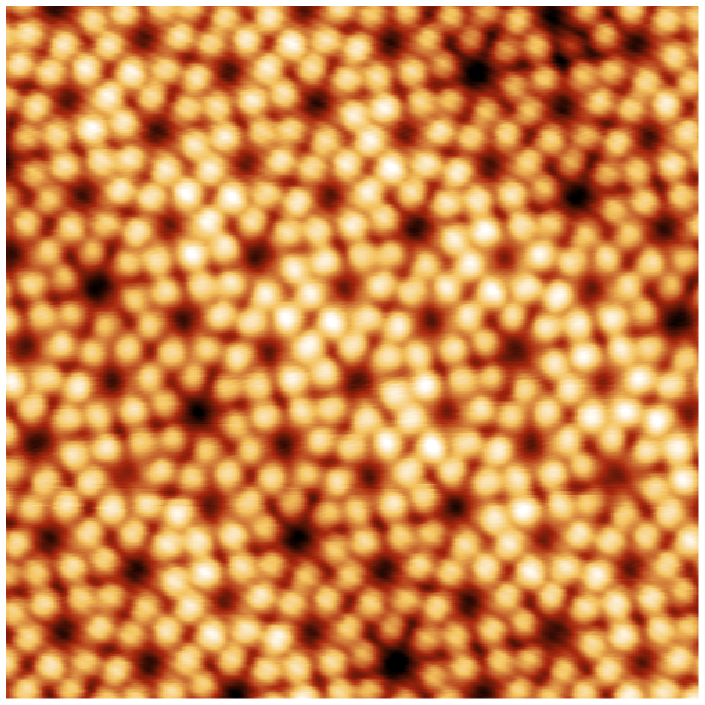L: (108, 82, 211, 186), (410, 457, 510, 562), (269, 53, 370, 155), (92, 519, 191, 623), (572, 425, 670, 529), (253, 486, 349, 592), (310, 331, 408, 434), (473, 302, 569, 404), (372, 177, 466, 281), (212, 207, 309, 306), (151, 364, 246, 465), (511, 582, 606, 683), (51, 239, 144, 340), (430, 27, 527, 121), (534, 149, 627, 247), (593, 6, 690, 94), (4, 393, 88, 494), (350, 613, 444, 700)
R: (398, 364, 496, 464), (176, 553, 276, 650), (384, 272, 482, 370), (5, 491, 103, 589), (35, 147, 137, 241), (196, 118, 295, 214), (325, 428, 424, 524), (582, 522, 681, 618), (263, 586, 364, 680), (22, 53, 120, 149), (164, 460, 262, 556), (138, 272, 237, 367), (238, 397, 338, 491), (64, 335, 161, 431), (486, 399, 582, 496), (544, 245, 642, 340), (458, 211, 557, 305), (297, 242, 397, 335), (287, 151, 383, 247), (357, 88, 454, 183), (125, 178, 222, 273), (445, 121, 542, 216), (225, 304, 322, 399), (496, 492, 593, 587), (15, 587, 113, 681), (557, 337, 657, 429), (594, 615, 697, 704), (338, 524, 434, 619), (77, 430, 174, 524), (425, 554, 522, 648), (519, 59, 616, 152), (185, 26, 280, 118), (605, 92, 700, 183), (343, 7, 441, 94), (94, 5, 194, 88), (619, 184, 702, 276)
